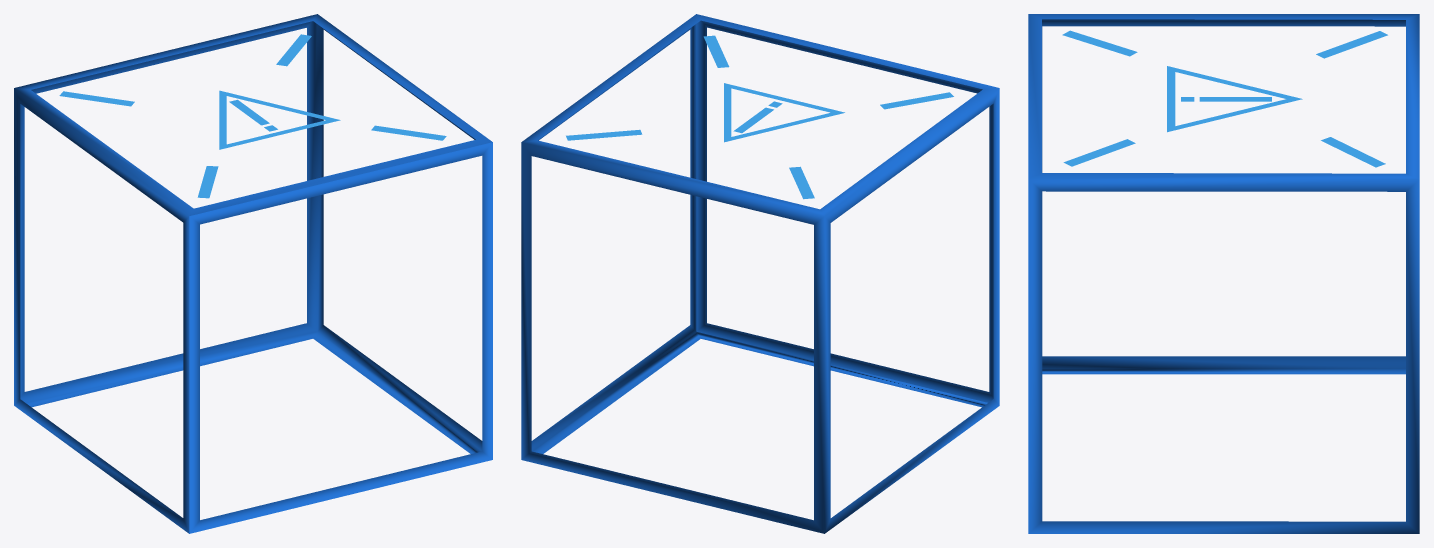
File: BlueDoor.fbx
The picture shows the model from 3 angles, left to right: view 1: azimuth 30°, elevation 25°; view 2: azimuth 150°, elevation 25°; view 3: azimuth 270°, elevation 25°; orthographic projection. The views are drawn at different scales.
Parts seen in each view (by area): view 1: 立方体, 圆环; view 2: 立方体, 圆环; view 3: 立方体, 圆环, 平面.002, 平面.005, 平面.003, 平面.004.
Part boxes in pixels (<box>): 立方体: <box>14,14,492,533</box>; 圆环: <box>219,90,340,149</box>; 立方体: <box>521,14,999,533</box>; 圆环: <box>724,83,844,142</box>; 立方体: <box>1028,14,1419,533</box>; 圆环: <box>1167,66,1302,132</box>; 平面.002: <box>1062,30,1137,56</box>; 平面.005: <box>1316,31,1387,58</box>; 平面.003: <box>1063,139,1135,166</box>; 平面.004: <box>1321,137,1385,167</box>.
Bounding box in the file's own units: 200 × 200 × 200.
